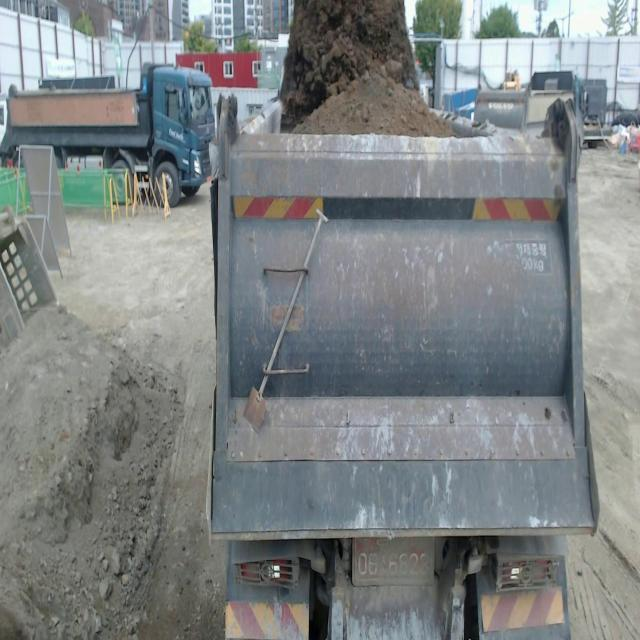red-sand: (280, 0, 452, 136)
white-sand: (0, 311, 182, 639)
